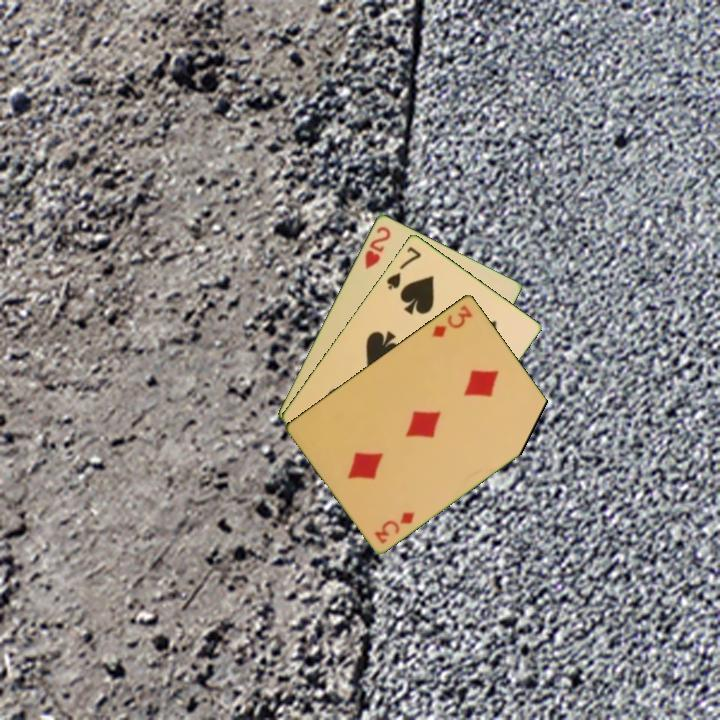2h: (361, 222, 394, 272)
3d: (428, 301, 476, 340), (371, 507, 418, 546)
7s: (383, 243, 424, 292)
